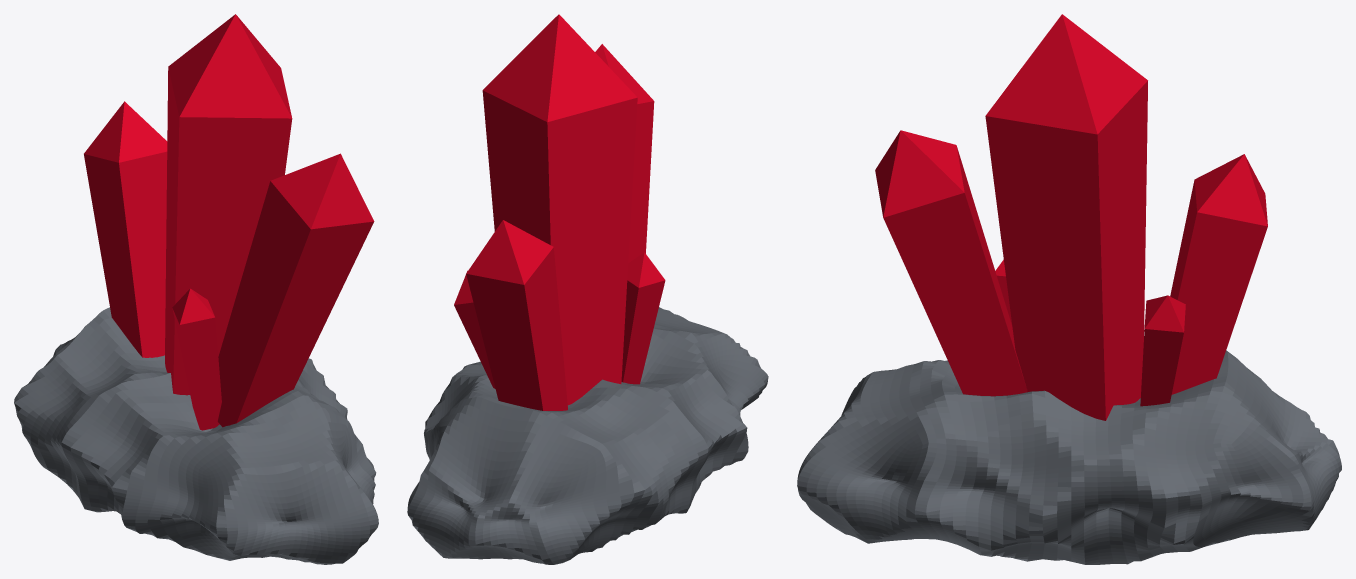
Rendered from crystal_red.fbx.
3 renders of one model, left to right at view 1: azimuth 30°, elevation 25°; view 2: azimuth 150°, elevation 25°; view 3: azimuth 270°, elevation 25°, orthographic. The views are drawn at different scales.
Visible parts, largest first — view 1: Cube.001, Cube.003, Cube.002, Cube, Cube.004; view 2: Cube.001, Cube.003, Cube, Cube.004, Cube.002, Cube.005; view 3: Cube.001, Cube.003, Cube.002, Cube, Cube.005.
Part boxes in pixels (x1,y1,x2,y2): Cube.001: [14, 307, 378, 564]; Cube.003: [165, 14, 292, 395]; Cube.002: [217, 153, 374, 427]; Cube: [84, 101, 167, 357]; Cube.004: [172, 288, 221, 430]; Cube.001: [407, 307, 768, 564]; Cube.003: [482, 14, 637, 405]; Cube: [466, 220, 567, 410]; Cube.004: [621, 252, 665, 384]; Cube.002: [595, 44, 654, 262]; Cube.005: [454, 270, 495, 388]; Cube.001: [797, 350, 1341, 564]; Cube.003: [985, 14, 1147, 420]; Cube.002: [875, 130, 1027, 396]; Cube: [1170, 154, 1267, 394]; Cube.005: [1140, 295, 1185, 406].
Bounding box in the file's own units: 360 × 644 × 588.
